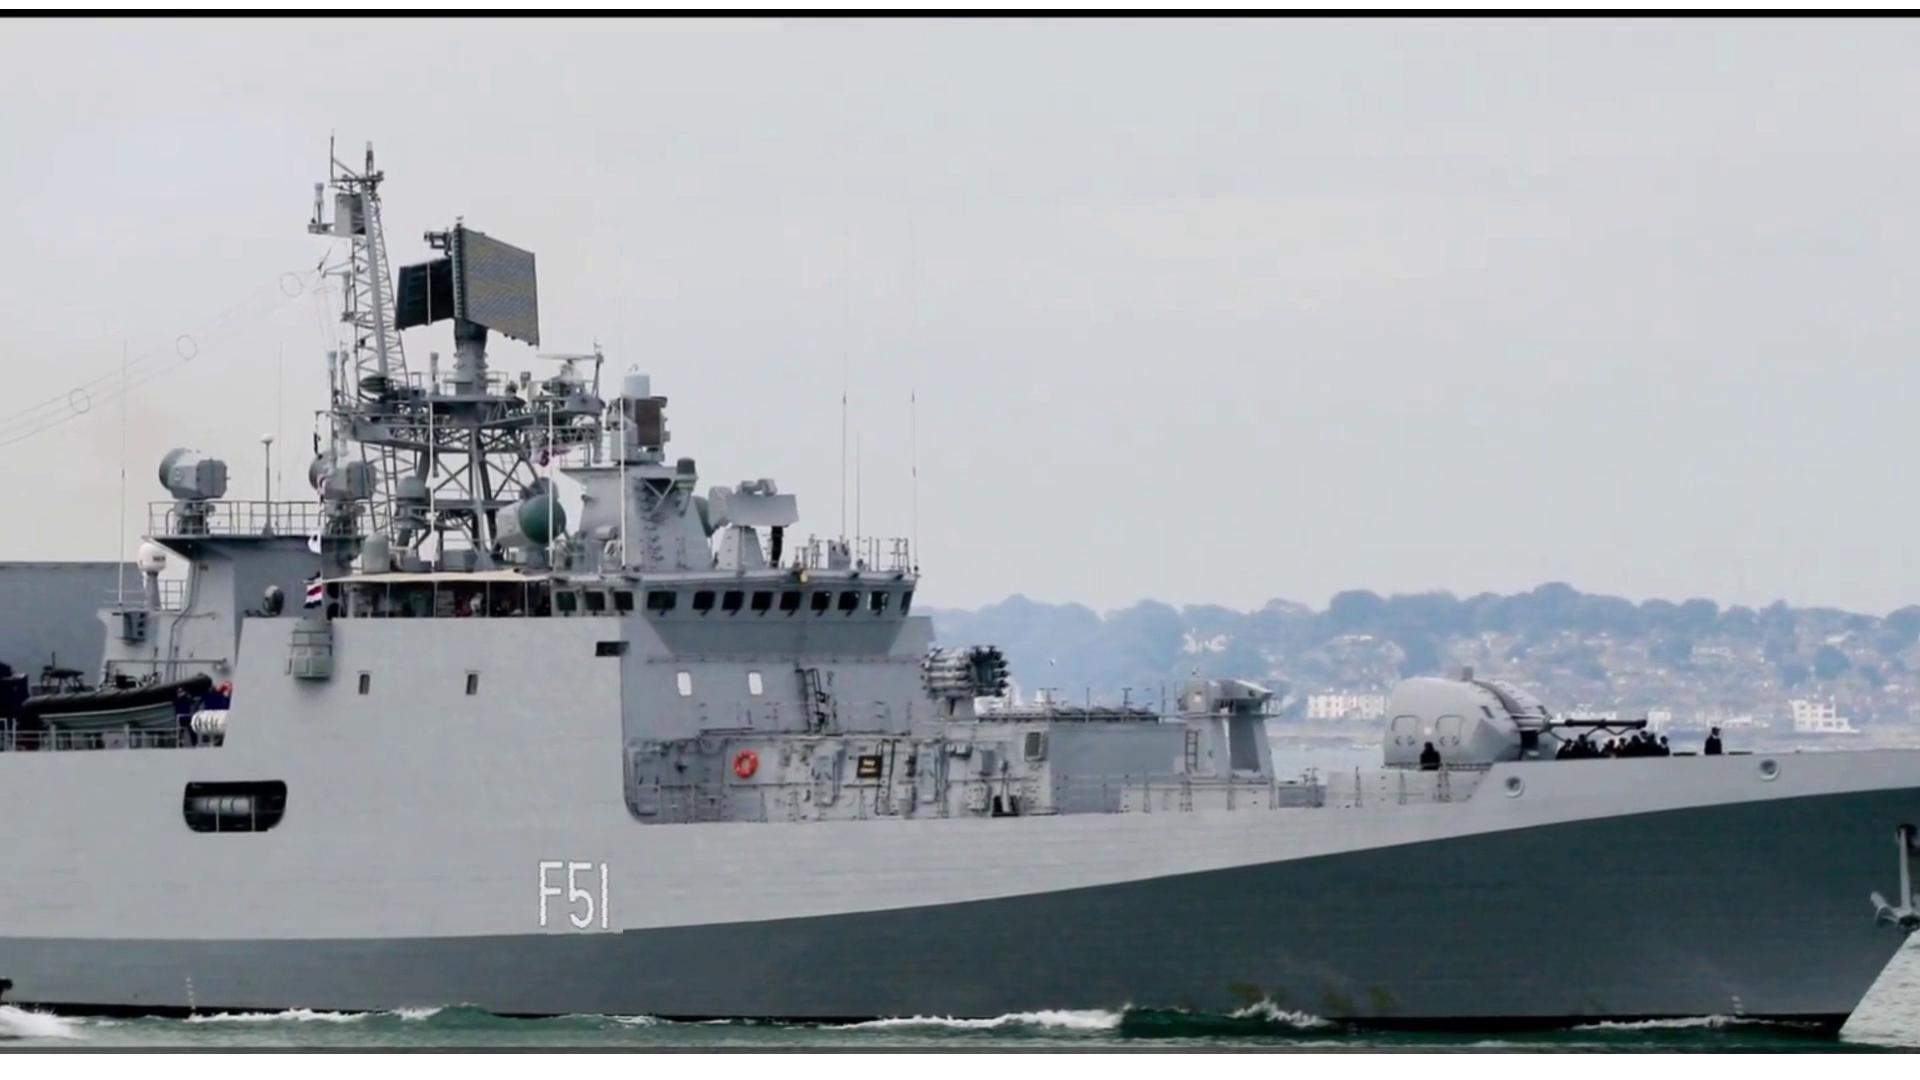OCR: (522, 852, 624, 940)
